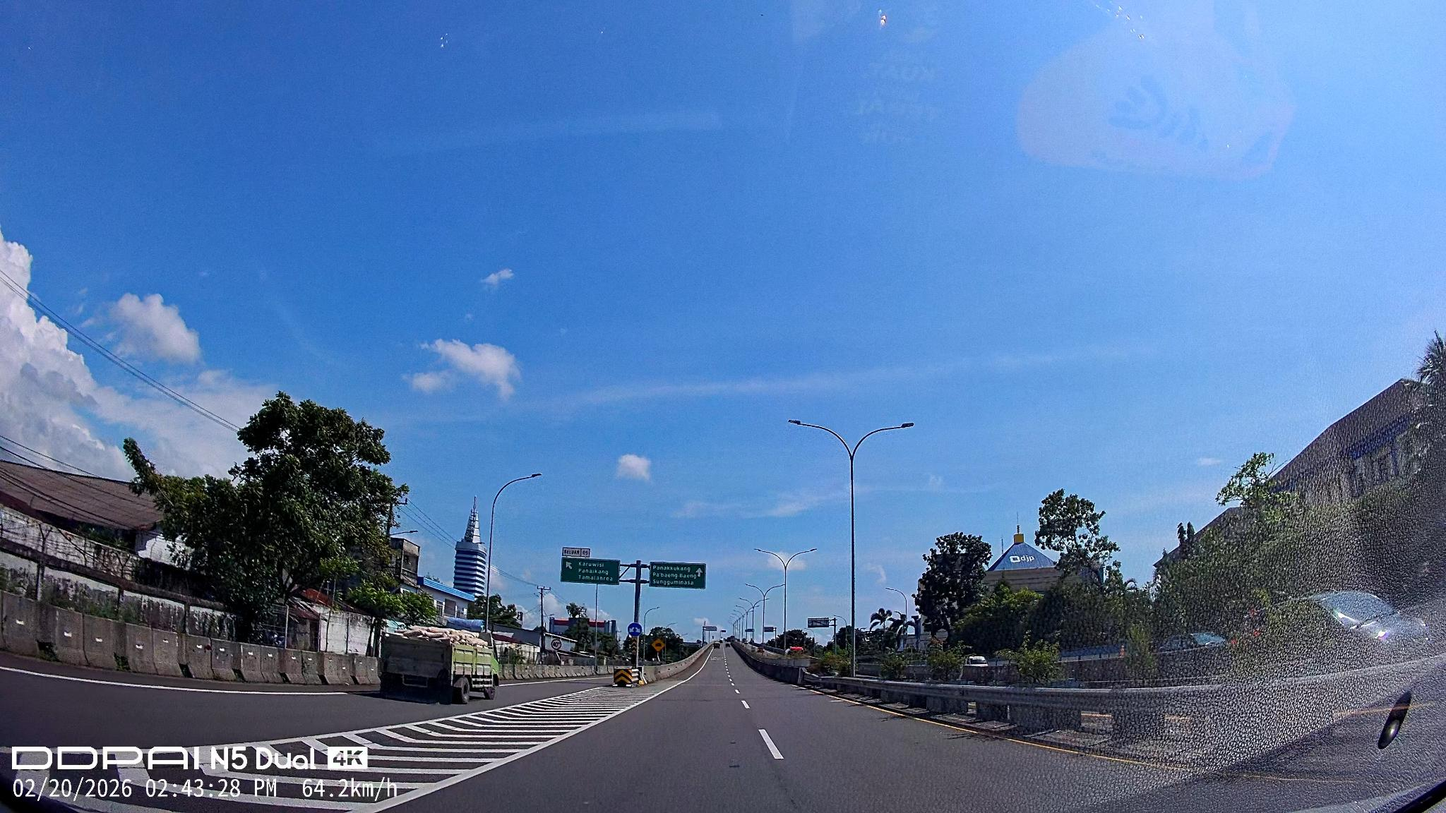rambu_teks: (560, 556, 621, 586), (649, 561, 707, 589)
